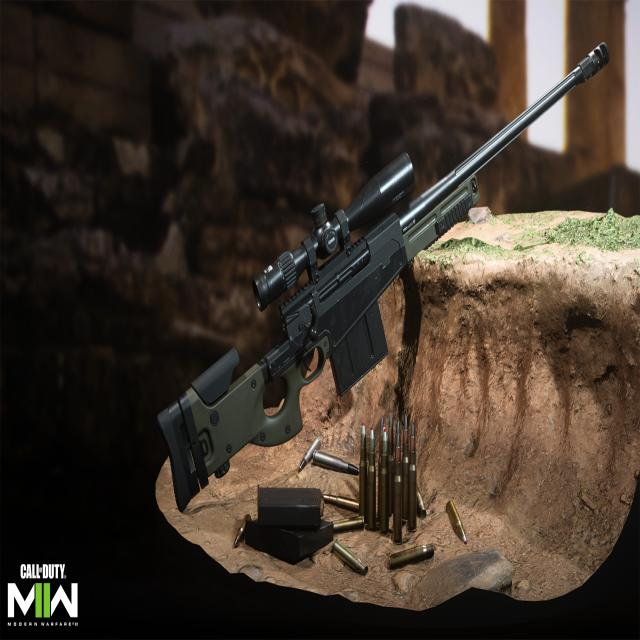Rifle: (155, 44, 611, 513)
